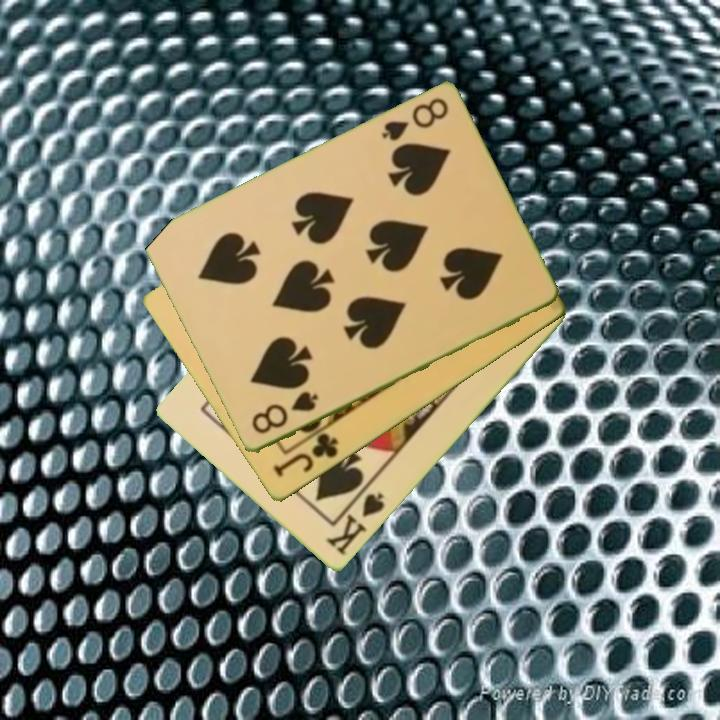8s: (377, 94, 451, 145), (248, 388, 321, 438)
Jc: (269, 430, 342, 481)
Ks: (322, 482, 388, 559)
